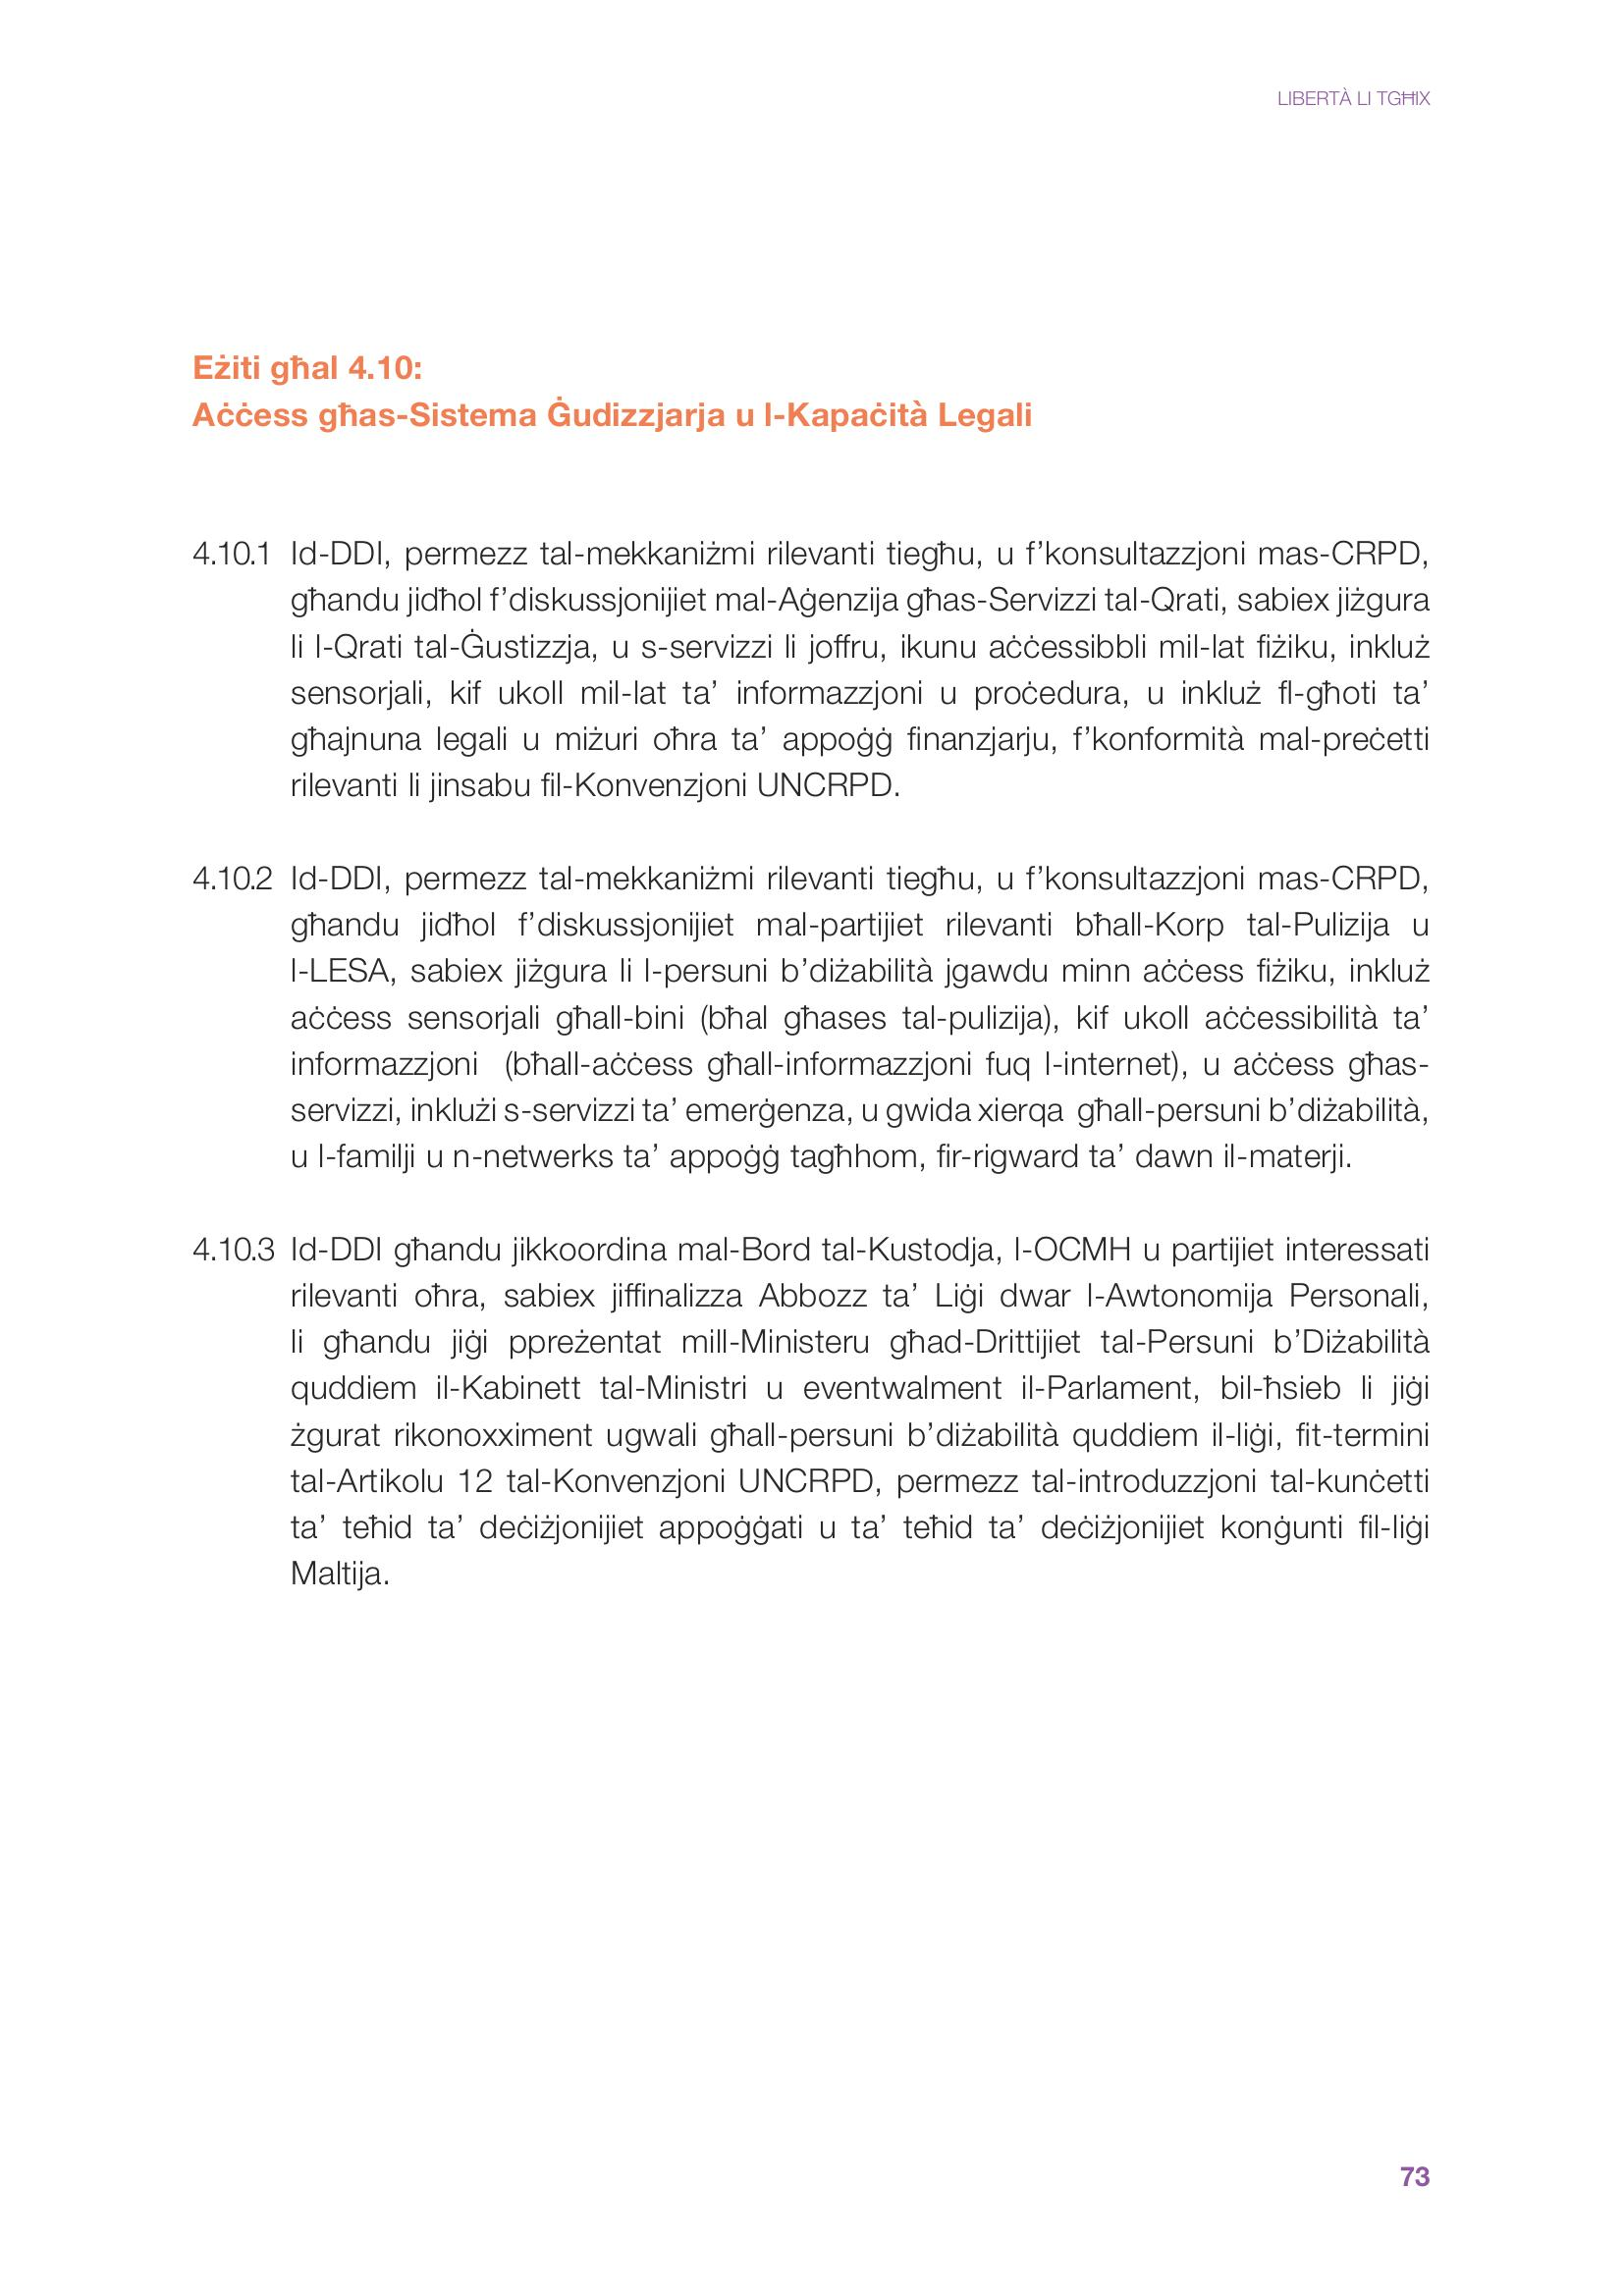text: (146, 320, 1475, 1614)
